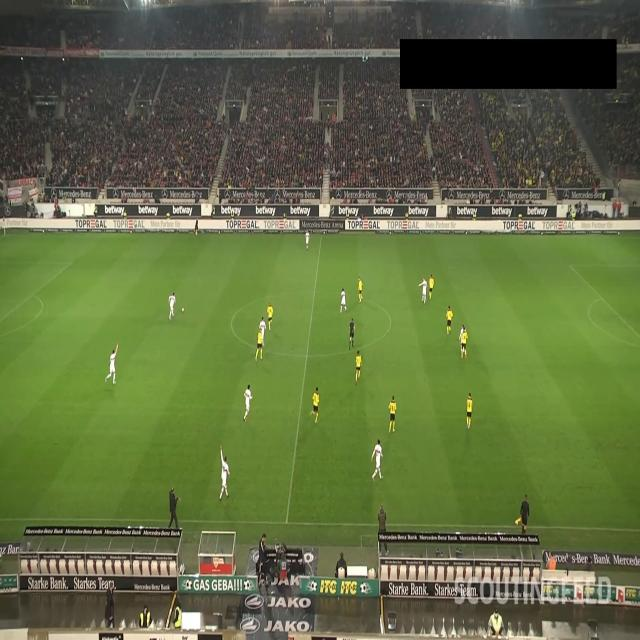ball: (181, 307, 185, 313)
